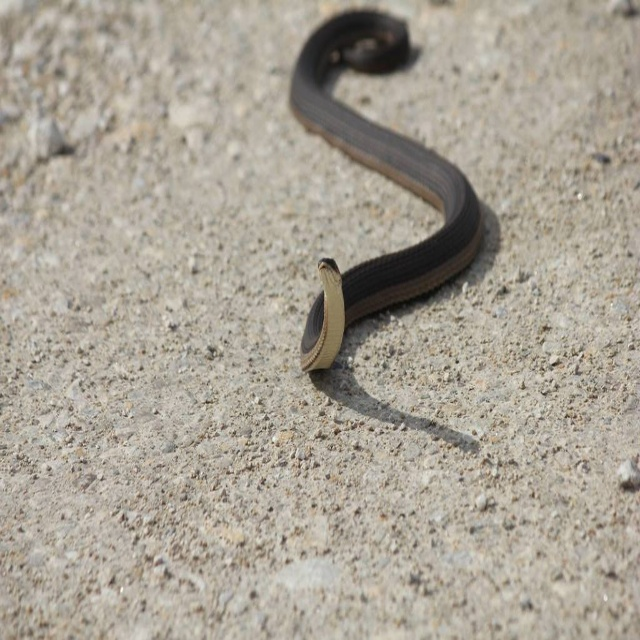Snake: (289, 8, 485, 368)
